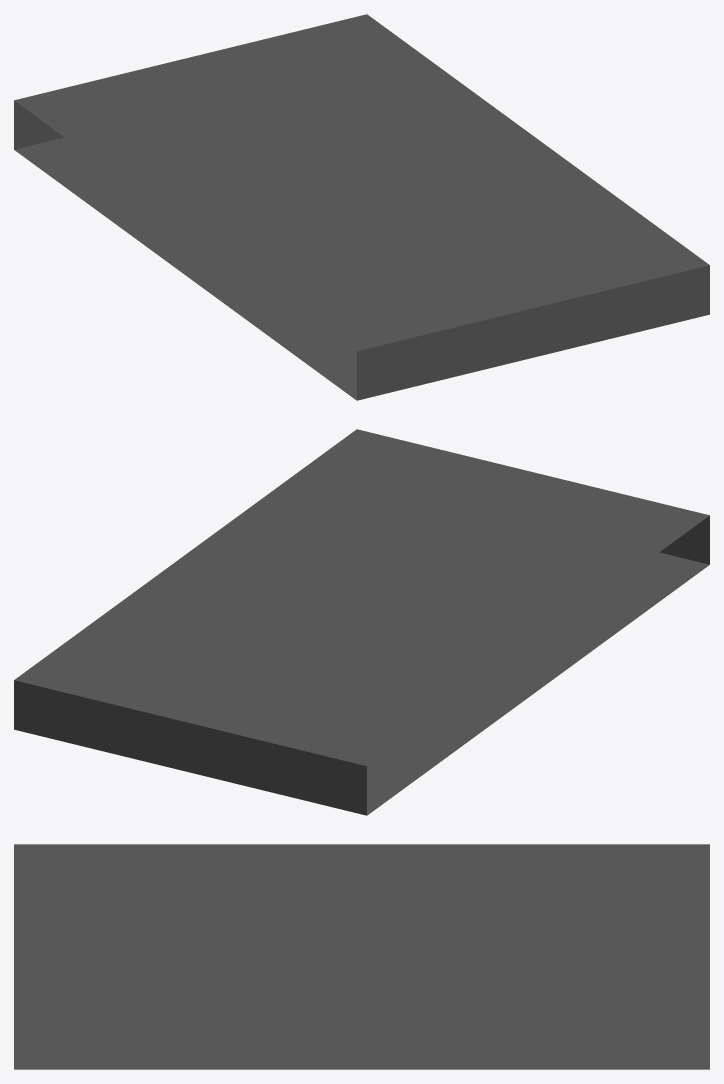
Rendered from Itr_Diningtable_Top_Middle_04.FBX.
3 renders of one model, top to bottom at view 1: azimuth 30°, elevation 25°; view 2: azimuth 150°, elevation 25°; view 3: azimuth 270°, elevation 25°, orthographic.
Visible parts, largest first — view 1: Itr_Diningtable_Top_Middle_04; view 2: Itr_Diningtable_Top_Middle_04; view 3: Itr_Diningtable_Top_Middle_04.
Boxes of the visible parts, bbox=[...] form: Itr_Diningtable_Top_Middle_04: bbox=[14, 14, 709, 400]; Itr_Diningtable_Top_Middle_04: bbox=[14, 429, 709, 815]; Itr_Diningtable_Top_Middle_04: bbox=[14, 844, 709, 1069].
Size of the model in its own units: 24.68 by 3.3 by 41.52.
